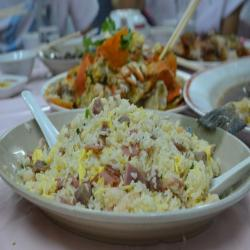rice: (43, 116, 213, 221)
